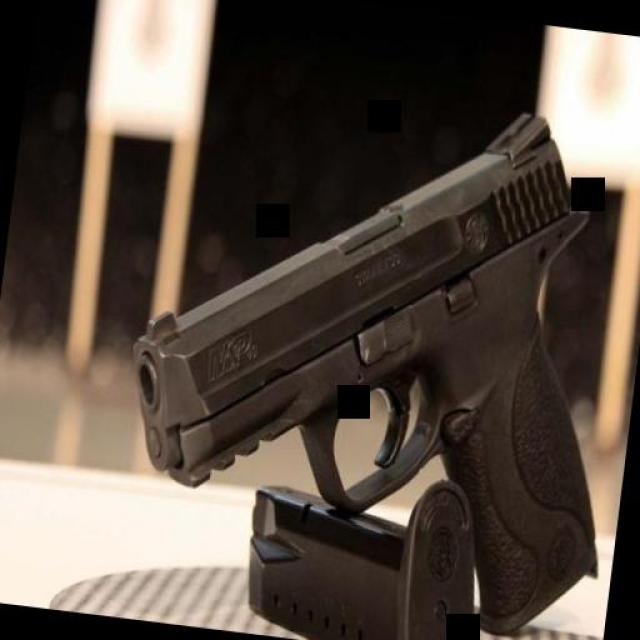gun: (106, 26, 640, 640)
